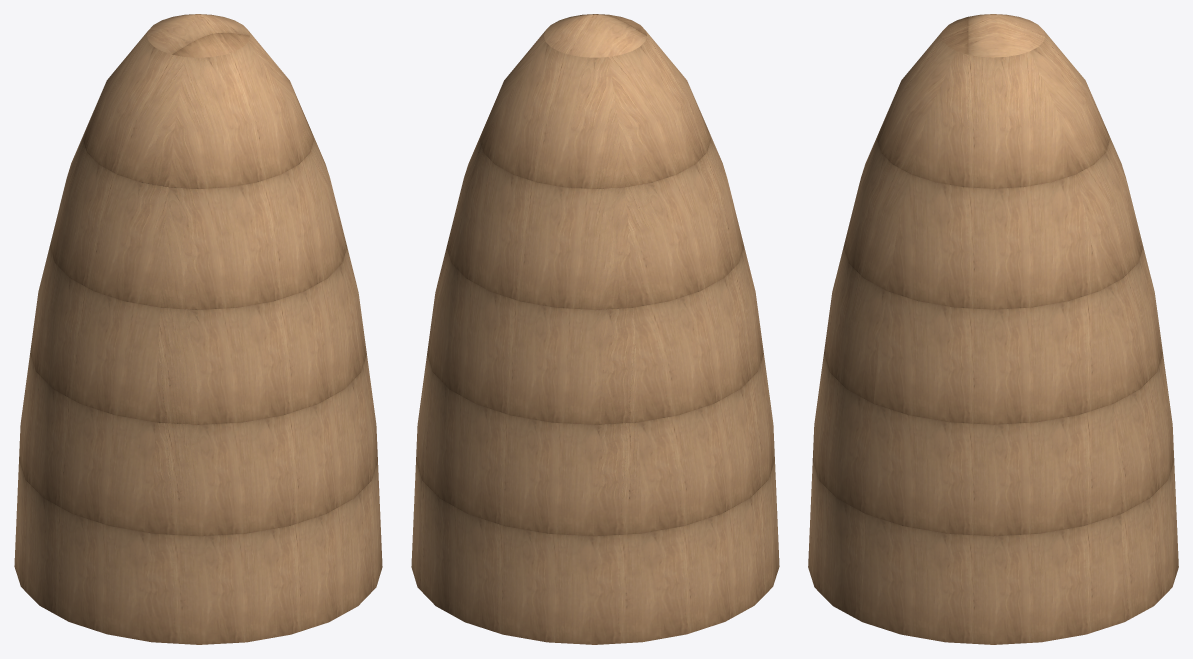
File: hay block2.fbx
3 renders of one model, left to right at view 1: azimuth 30°, elevation 25°; view 2: azimuth 150°, elevation 25°; view 3: azimuth 270°, elevation 25°, orthographic.
Parts seen in each view (by area): view 1: mergedBlocks; view 2: mergedBlocks; view 3: mergedBlocks.
Part boxes in pixels (bbox=[...]): mergedBlocks: bbox=[14, 14, 382, 644]; mergedBlocks: bbox=[411, 14, 779, 644]; mergedBlocks: bbox=[808, 14, 1178, 644].
Bounding box in the file's own units: 31.2 × 51.52 × 31.46.
Materials: 1 (1 with a texture image).
